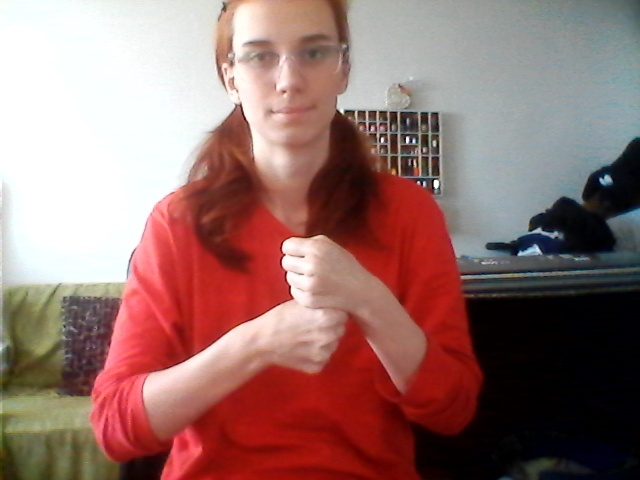g: (253, 228, 369, 397)
